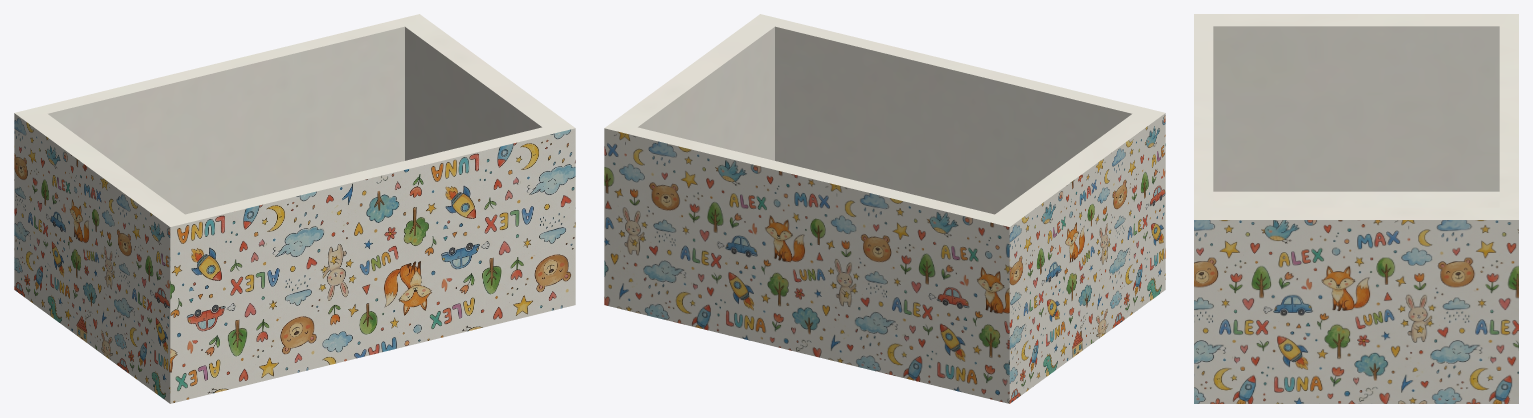
Rendered from caja_de_juguetes.fbx.
The picture shows the model from 3 angles, left to right: view 1: azimuth 30°, elevation 25°; view 2: azimuth 150°, elevation 25°; view 3: azimuth 270°, elevation 25°; orthographic projection. The views are drawn at different scales.
Visible parts, largest first — view 1: Cube.001; view 2: Cube.001; view 3: Cube.001.
Part boxes in pixels (x1,y1,x2,y2): Cube.001: (14, 14, 575, 403); Cube.001: (604, 14, 1165, 403); Cube.001: (1194, 14, 1518, 403).
Bounding box in the file's own units: 60 × 25 × 40.
1 material, 1 textured.
